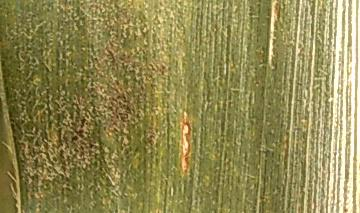tarspot: (78, 117, 87, 129), (77, 129, 86, 140), (88, 141, 94, 151), (70, 135, 78, 142)
